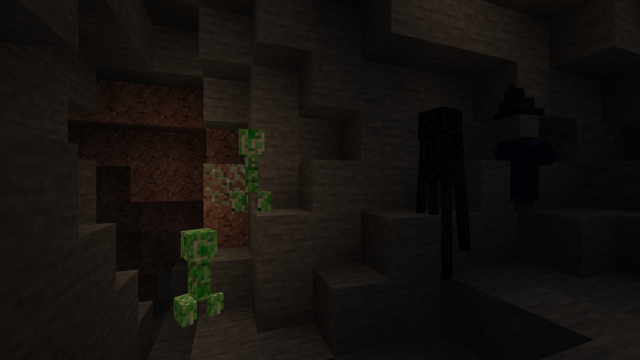creepers: (178, 223, 215, 325), (236, 123, 268, 211)
endermens: (414, 99, 467, 280)
sorcieres: (492, 108, 543, 212)
